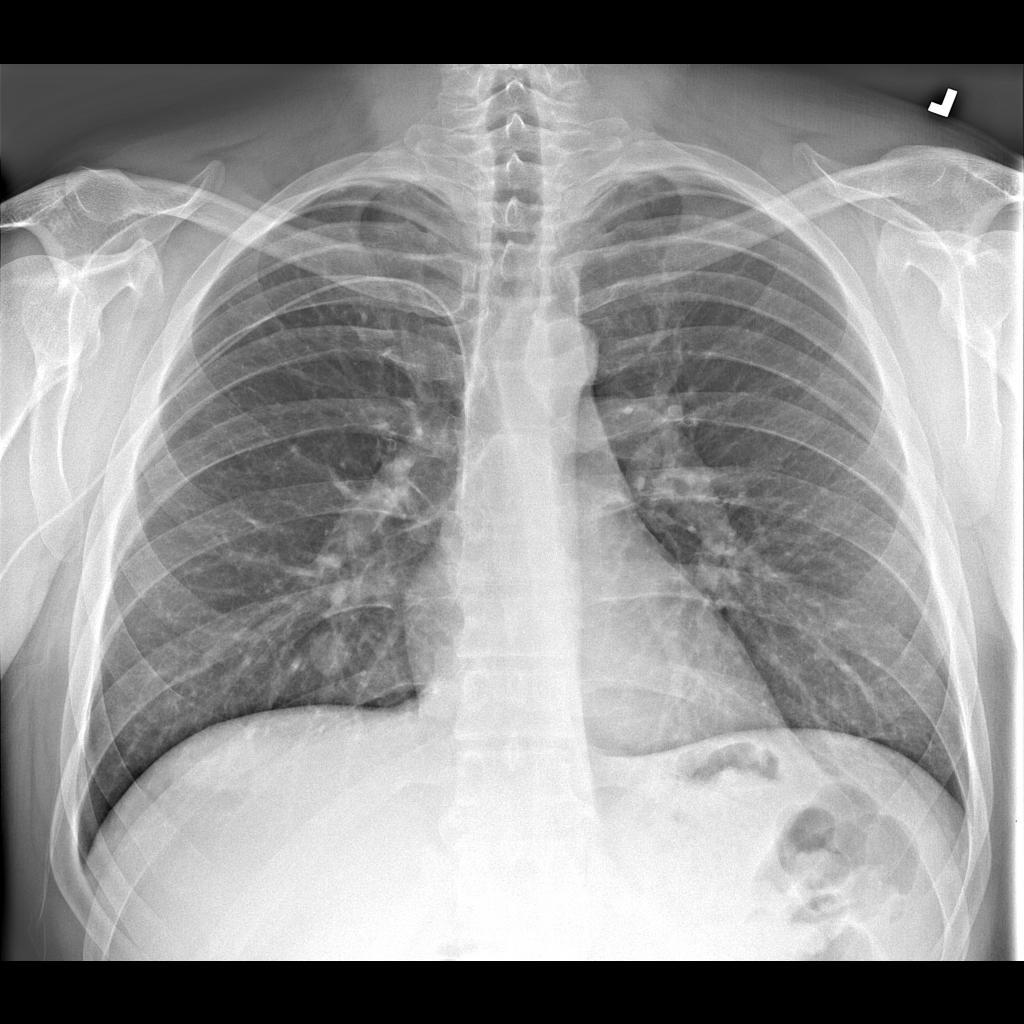Nodule: (312, 628, 360, 680)
